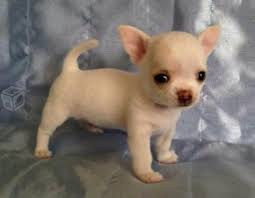chihuahua: (24, 8, 241, 187)
